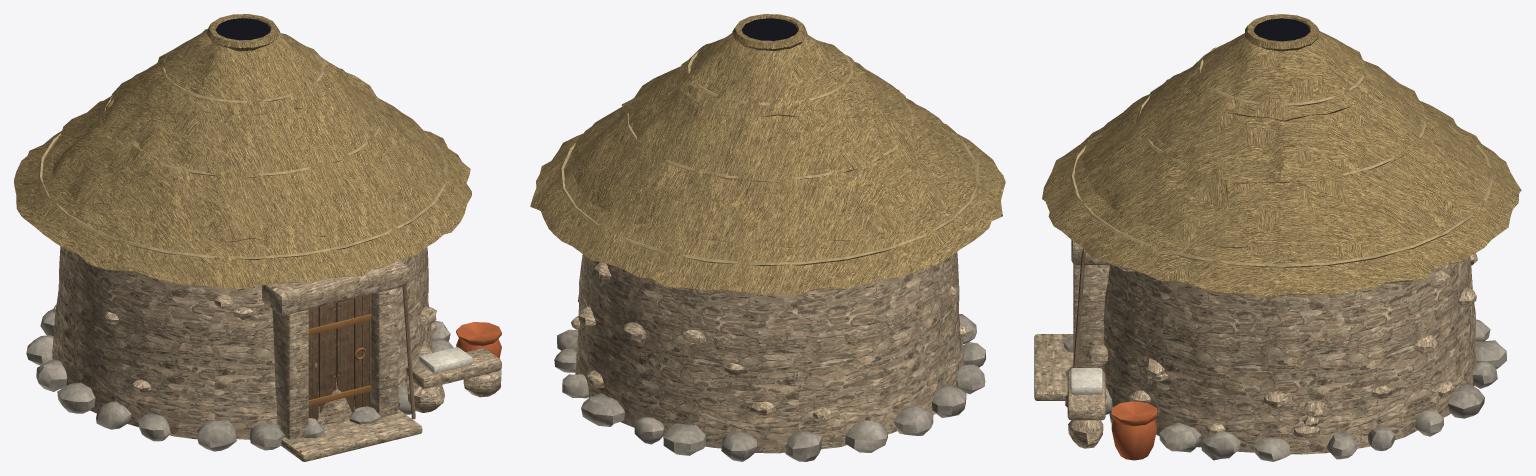
Rendered from country_hut_shepherd.glb.
The picture shows the model from 3 angles, left to right: view 1: azimuth 30°, elevation 25°; view 2: azimuth 150°, elevation 25°; view 3: azimuth 270°, elevation 25°; orthographic projection. The views are drawn at different scales.
Visible parts, largest first — view 1: thatch.004, drystone, rock.050, plank, rope, terracotta, bronze, dark, cloth_cream, wood; view 2: thatch.004, drystone, rock.050, rope, dark; view 3: thatch.004, drystone, rock.050, rope, terracotta, dark, cloth_cream, wood.
Boxes of the visible parts, x1,y1,x2,y2 form: thatch.004: (14, 14, 471, 289); drystone: (52, 246, 501, 461); rock.050: (26, 309, 453, 451); plank: (308, 294, 371, 420); rope: (38, 43, 447, 259); terracotta: (456, 322, 501, 358); bronze: (308, 314, 371, 406); dark: (216, 18, 270, 40); cloth_cream: (419, 347, 472, 373); wood: (402, 285, 415, 419); thatch.004: (530, 14, 1005, 295); drystone: (571, 252, 969, 453); rock.050: (554, 314, 985, 461); rope: (560, 40, 979, 266); dark: (742, 18, 797, 40); thatch.004: (1042, 14, 1521, 296); drystone: (1034, 240, 1477, 454); rock.050: (1063, 319, 1506, 461); rope: (1070, 44, 1493, 267); terracotta: (1111, 401, 1156, 460); dark: (1254, 18, 1309, 41); cloth_cream: (1070, 368, 1102, 394); wood: (1073, 248, 1085, 367).
Bounding box in the file's own units: 5.01 × 4.05 × 5.12.
Materials: 10 (9 with a texture image).
